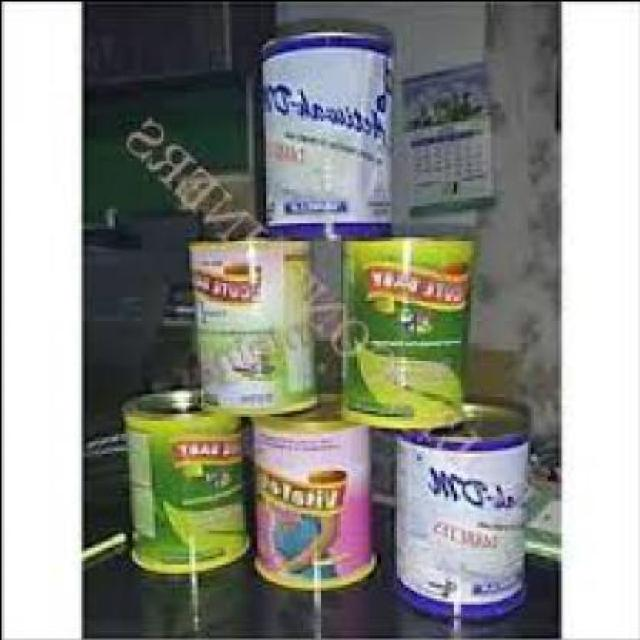METAL: (393, 392, 538, 620), (262, 25, 396, 230), (344, 233, 478, 427), (124, 380, 250, 572), (250, 398, 376, 590), (190, 228, 313, 412)
